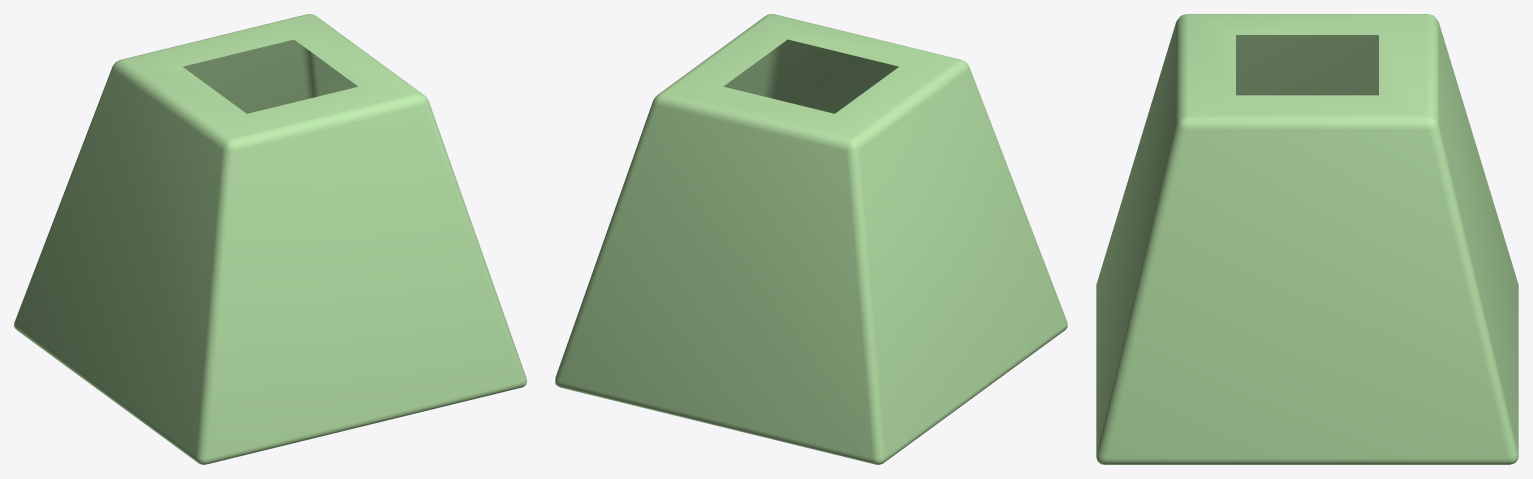
The model's file is machine1_parcas.fbx.
3 views of the same model, side by side, from view 1: azimuth 30°, elevation 25°; view 2: azimuth 150°, elevation 25°; view 3: azimuth 270°, elevation 25° (orthographic). The views are drawn at different scales.
Parts seen in each view (by area): view 1: Cube.015; view 2: Cube.015; view 3: Cube.015.
Part boxes in pixels (box(x1,y1,x2,y2)): Cube.015: box(14, 14, 526, 464); Cube.015: box(555, 14, 1067, 464); Cube.015: box(1096, 14, 1518, 464).
Size of the model in its own units: 49.92 by 40.81 by 49.92.
